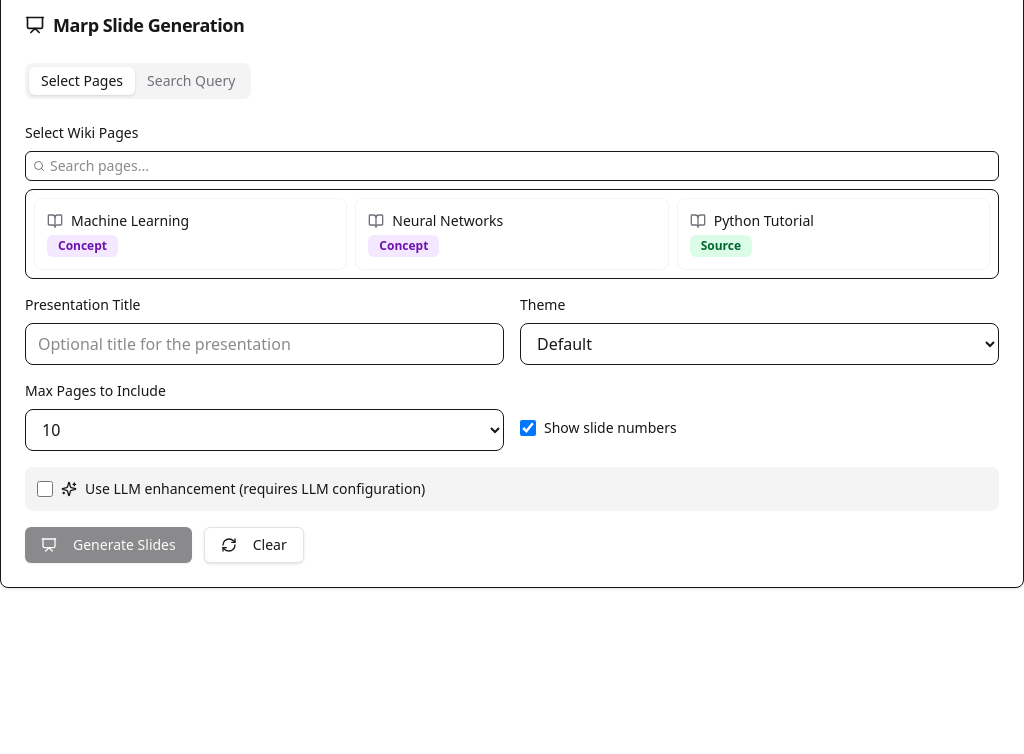
Scenario: MarpSlides › should display copy markdown button after generation
Expected: the text "Machine Learning" is shown, [71,211,189,231]
What coordinates should you click on to do the following:
click the button "Machine Learning Concept"
I would click on:
 (130, 220)
Its box is [34,198,347,270].
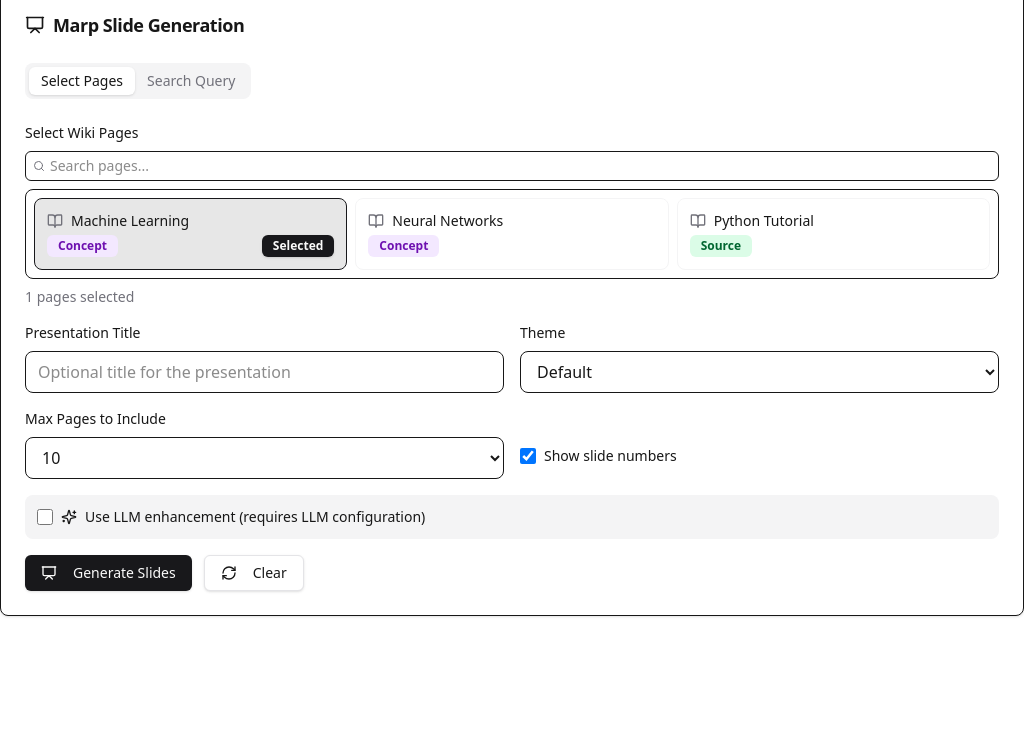
What coordinates should you click on to do the following:
click the button "Generate Slides"
I would click on:
 (108, 573)
Its box is [25,555,192,591].
(page scrolled)
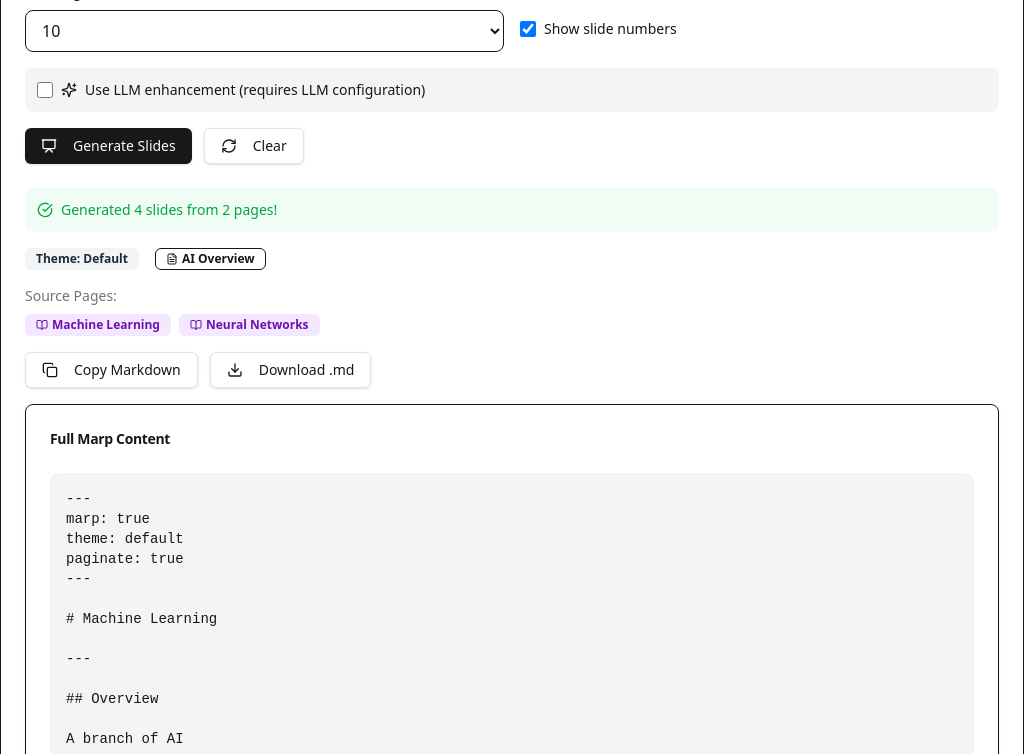
Expected: the button "Copy Markdown" is shown, [25,352,198,388]
